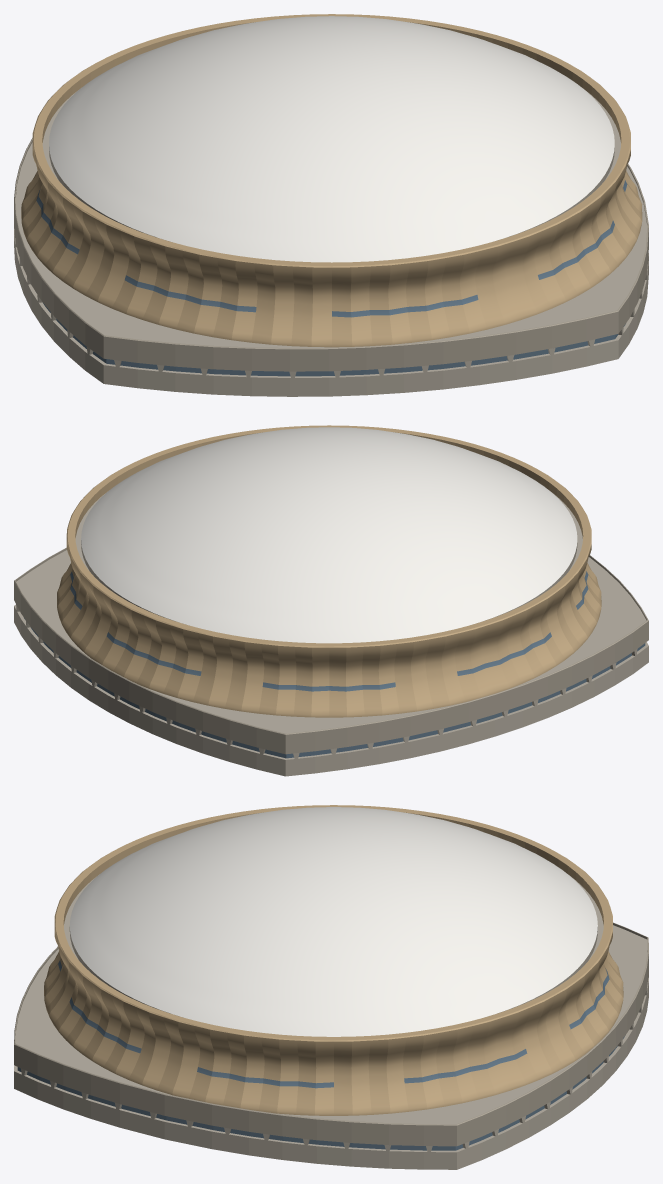
Rendered from nola-caesars-superdome.glb.
The picture shows the model from 3 angles, top to bottom: view 1: azimuth 30°, elevation 25°; view 2: azimuth 150°, elevation 25°; view 3: azimuth 270°, elevation 25°; orthographic projection. The views are drawn at different scales.
Visible parts, largest first — view 1: Caesars Superdome; view 2: Caesars Superdome; view 3: Caesars Superdome.
Part boxes in pixels (left/top/right/bottom): Caesars Superdome: left=14, top=14, right=648, bottom=396; Caesars Superdome: left=14, top=425, right=648, bottom=776; Caesars Superdome: left=14, top=805, right=648, bottom=1169.
Bounding box in the file's own units: 259 × 83.8 × 258.
